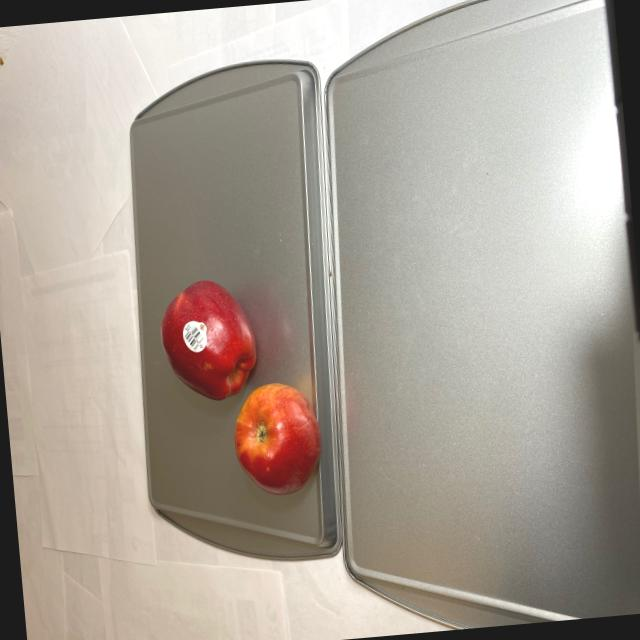apple: (155, 270, 326, 508)
